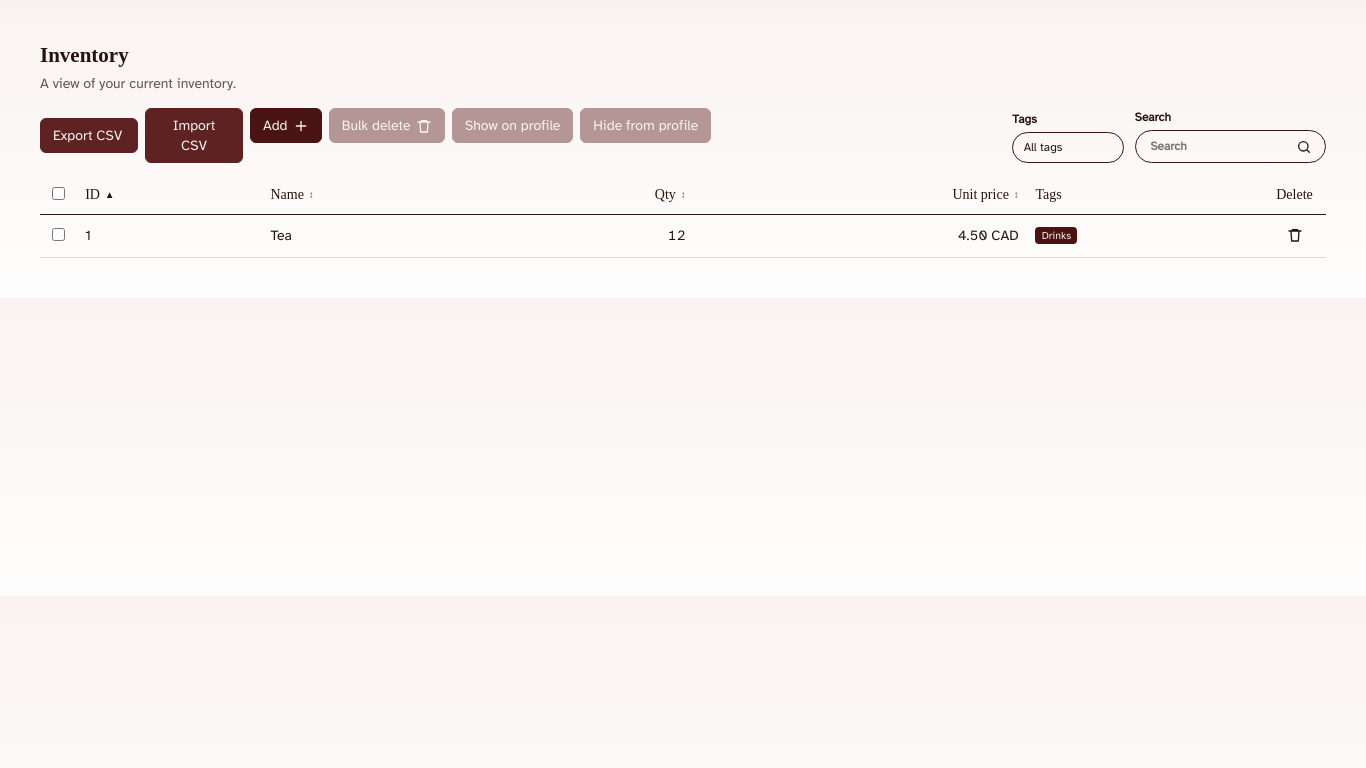
it: InventoryPage › shows the selected items on the public profile, and says when the profile is off
Expected: the text "Tea" is shown, [262,214,503,257]
Expected: the button "Show on profile" is disabled, [452,108,573,143]
Click the checkbox named "Select Tea" at (59, 234), box [52,228,65,240]
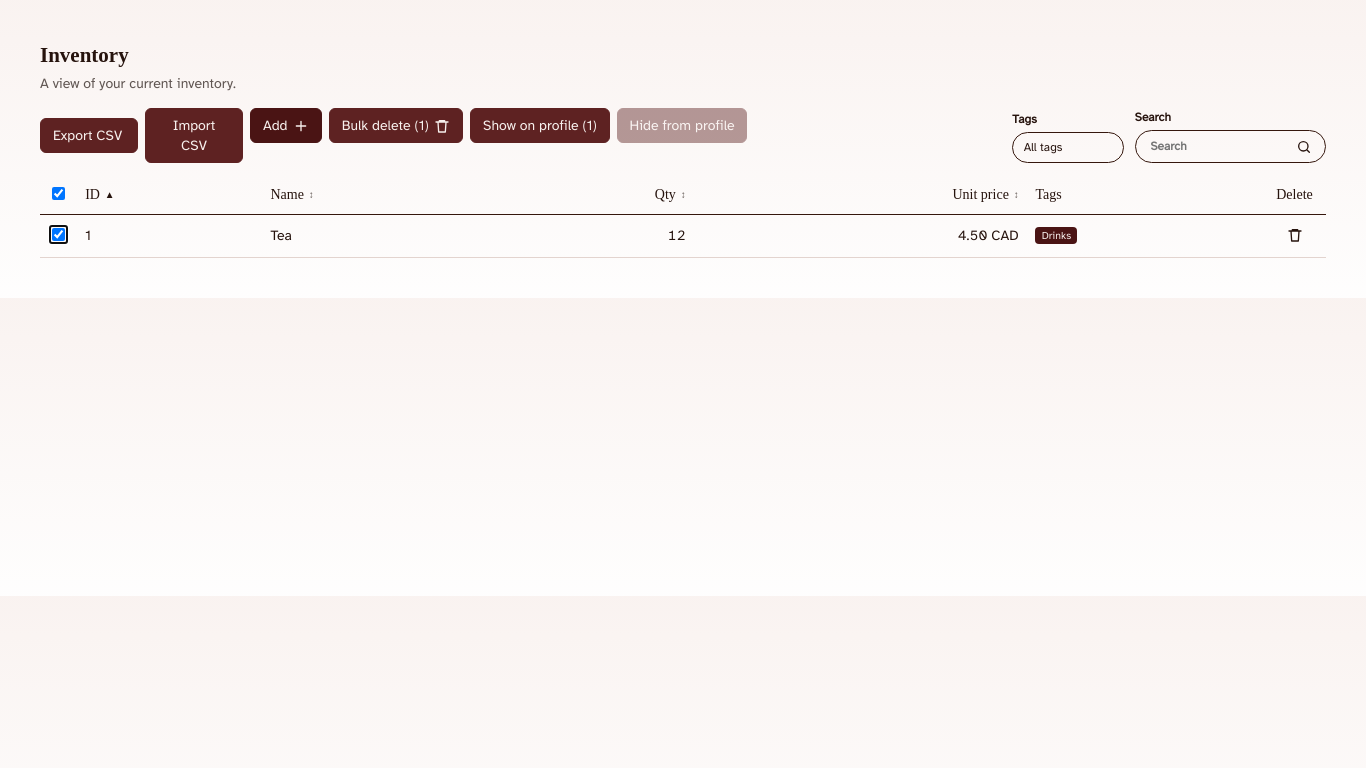
Click the button "Show on profile (1)" at (540, 126), box [470,108,610,143]
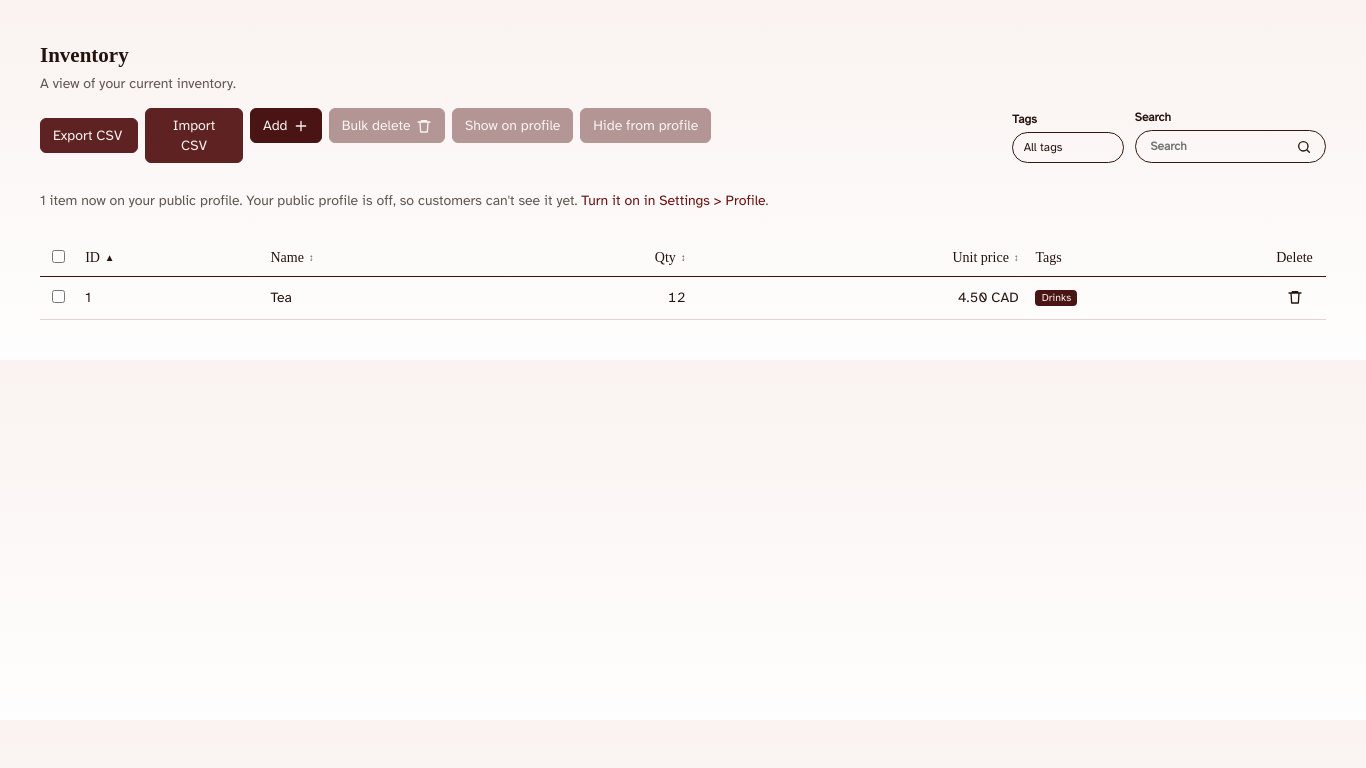
Result: the message shows "1 item now on your public profile. Your public profile is off, so customers can't see it yet." at [40,192,768,209]
Result: the button "Show on profile" is disabled at [452,108,573,143]
